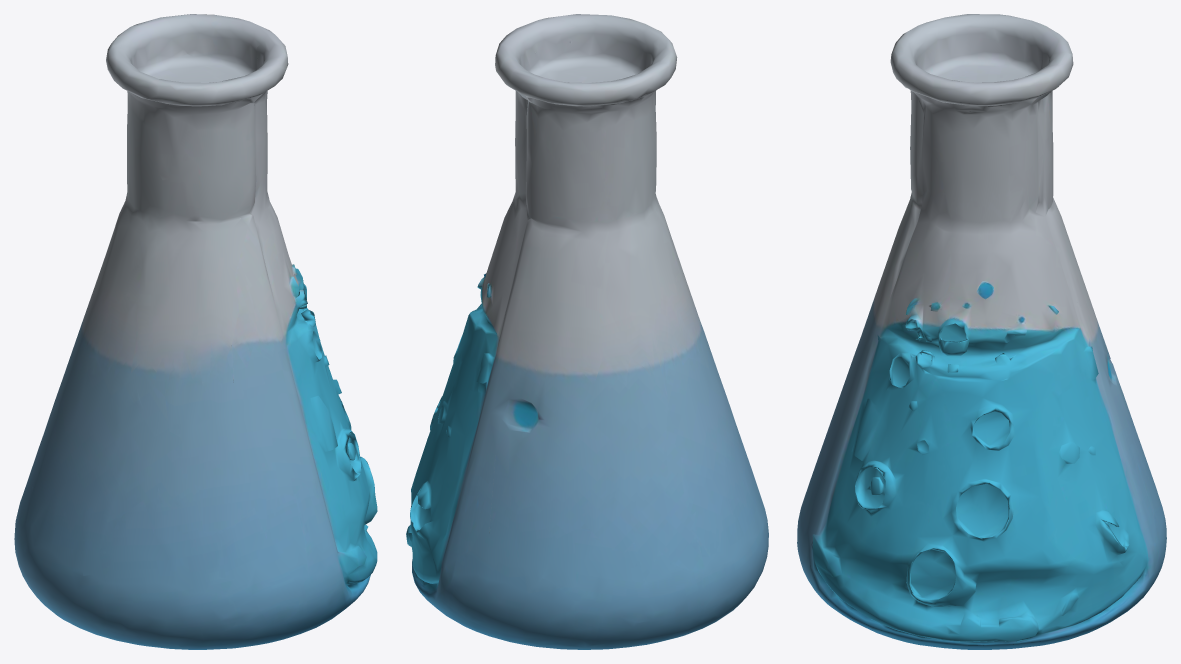
Rendered from flask.glb.
The picture shows the model from 3 angles, left to right: view 1: azimuth 30°, elevation 25°; view 2: azimuth 150°, elevation 25°; view 3: azimuth 270°, elevation 25°; orthographic projection.
Parts seen in each view (by area): view 1: tripo_node_376fb5ca-311e-493b-8c52-89c91f6d0369; view 2: tripo_node_376fb5ca-311e-493b-8c52-89c91f6d0369; view 3: tripo_node_376fb5ca-311e-493b-8c52-89c91f6d0369.
Part boxes in pixels (x1,y1,x2,y2): tripo_node_376fb5ca-311e-493b-8c52-89c91f6d0369: (14,14,377,649); tripo_node_376fb5ca-311e-493b-8c52-89c91f6d0369: (406,14,768,649); tripo_node_376fb5ca-311e-493b-8c52-89c91f6d0369: (797,14,1166,649).
Bounding box in the file's own units: 0.6134 × 1 × 0.6223.
1 material, 1 textured.
